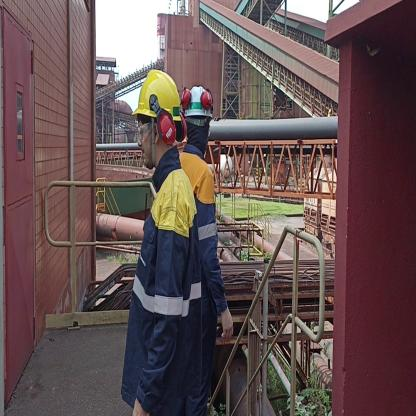Balaclava: (185, 115, 207, 150)
C_eletrica: (123, 184, 198, 416)
Capacete: (133, 68, 180, 118), (185, 72, 212, 114)
